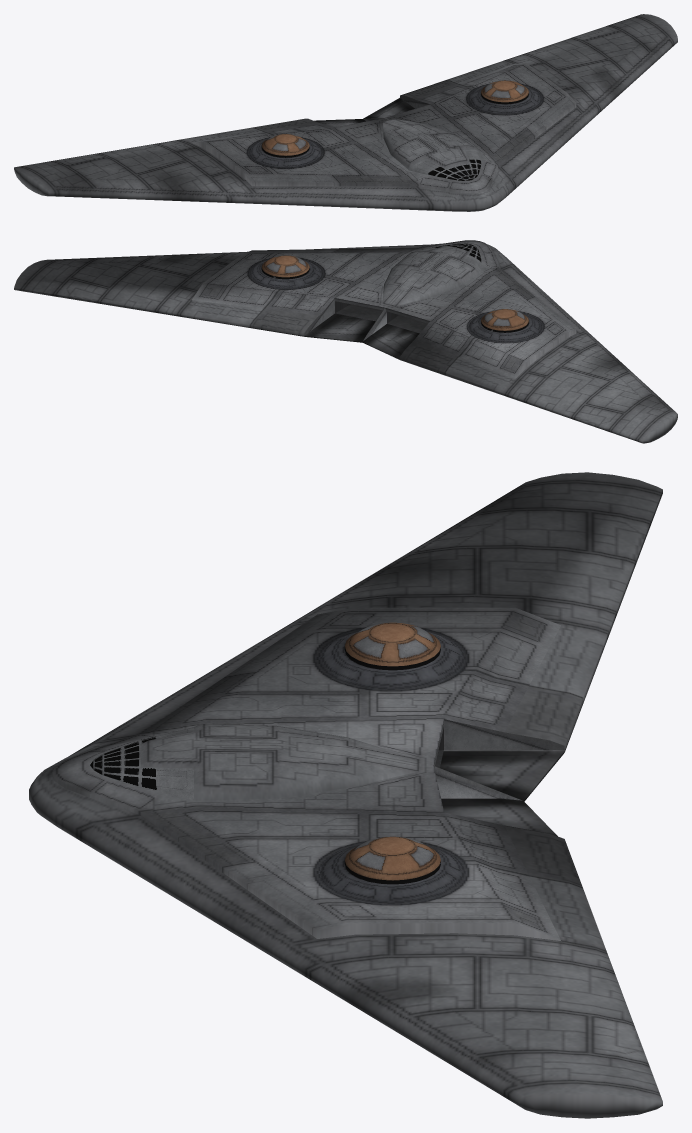
File: phalanx.gltf
The picture shows the model from 3 angles, top to bottom: view 1: azimuth 30°, elevation 25°; view 2: azimuth 150°, elevation 25°; view 3: azimuth 270°, elevation 25°; orthographic projection. The views are drawn at different scales.
Visible parts, largest first — view 1: base; view 2: base; view 3: base.
Boxes of the visible parts, left/top/right/bottom form: base: left=14, top=14, right=677, bottom=211; base: left=14, top=240, right=677, bottom=443; base: left=29, top=472, right=662, bottom=1118.
Bounding box in the file's own units: 8.92 × 0.5158 × 3.84.
Materials: 1 (1 with a texture image).
